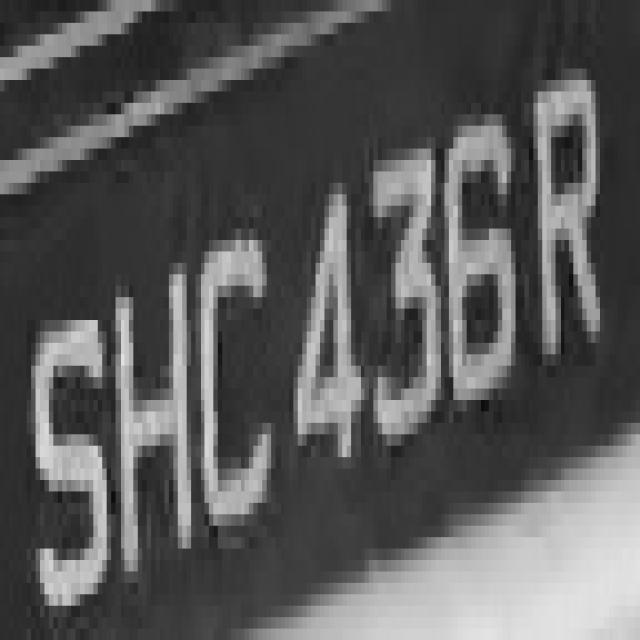3: (369, 80, 449, 514)
4: (271, 137, 365, 503)
6: (444, 69, 524, 457)
C: (191, 206, 280, 537)
H: (98, 217, 200, 594)
R: (524, 57, 614, 412)
S: (40, 286, 116, 628)
